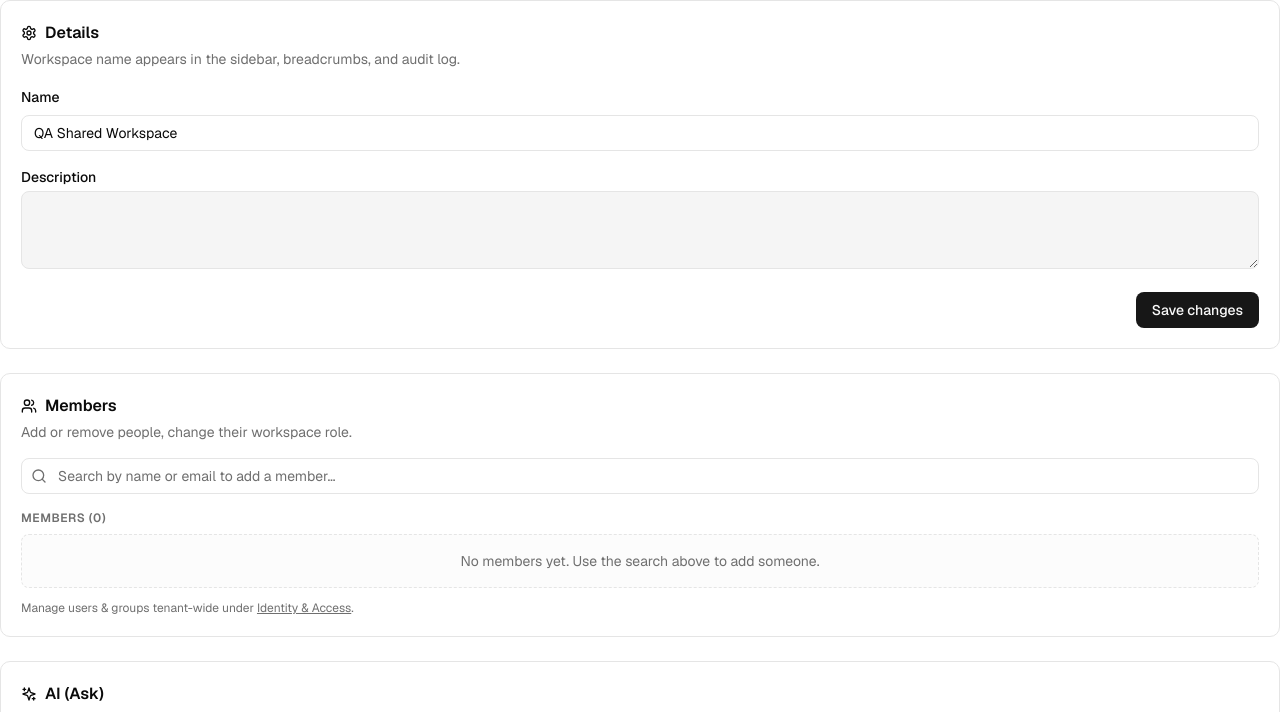
Test: workspace member picker › finds a user created after the picker was first opened
This screenshot has width=1280, height=712.
Type "one" into the field with test id "ws-member-picker-search".
click(640, 476); type("one")  # box [21,458,1259,494]
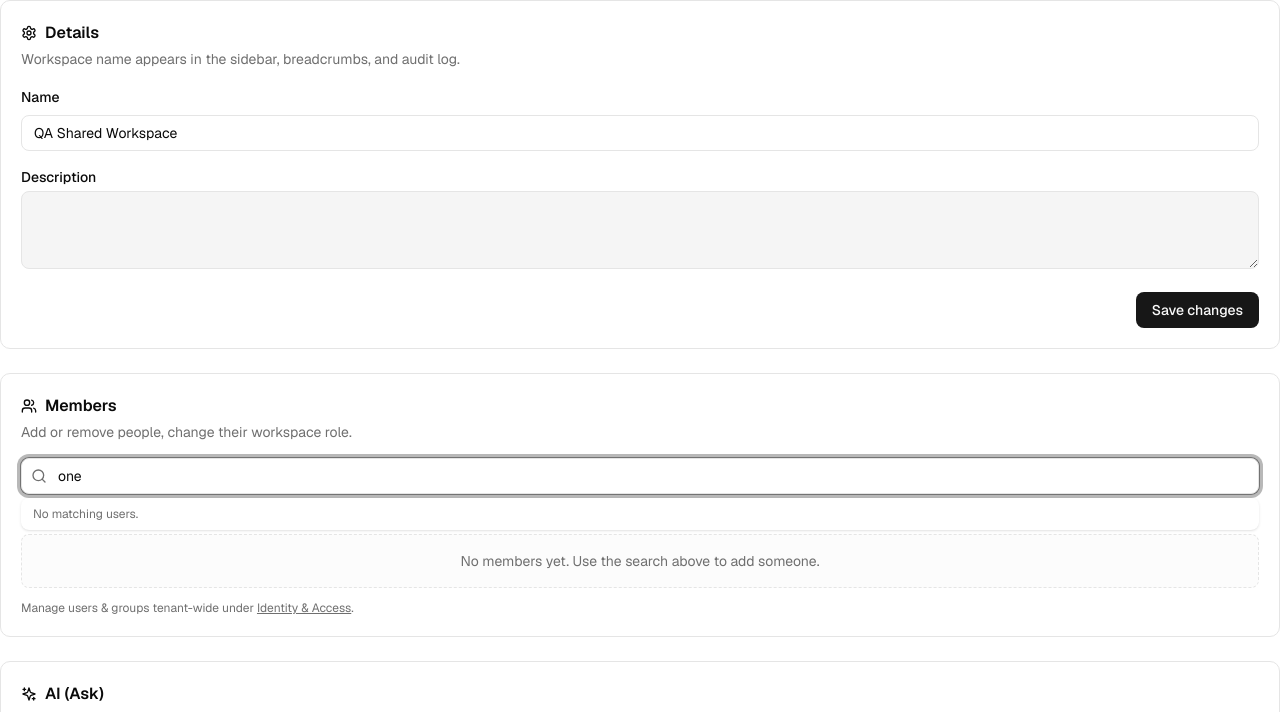
Replace the text in the field with test id "ws-member-picker-search" with "two" at coordinates (640, 476), box [21,458,1259,494]
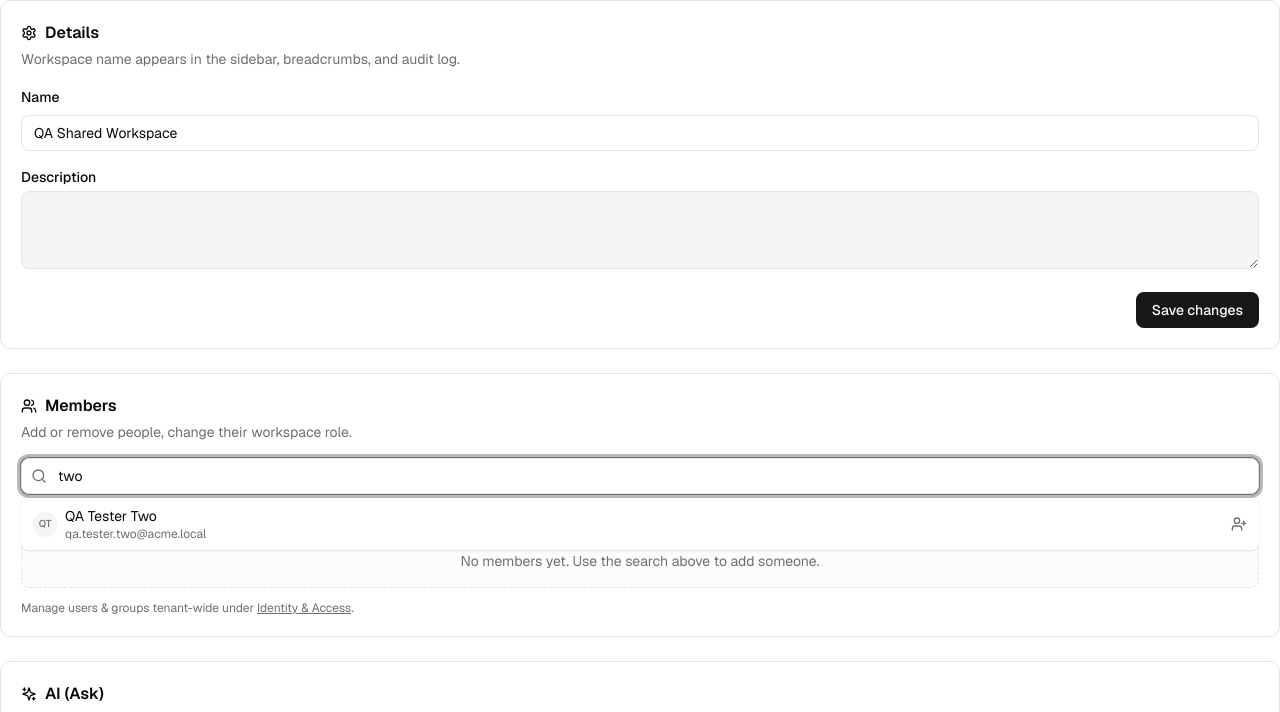
Now the text "QA Tester Two" is shown, box [65,507,157,525]
